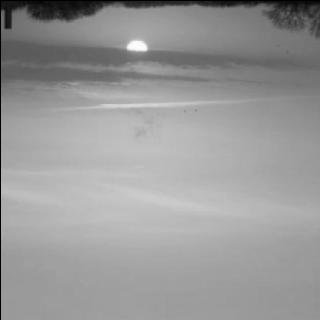Contrails: (0, 22, 320, 320)
